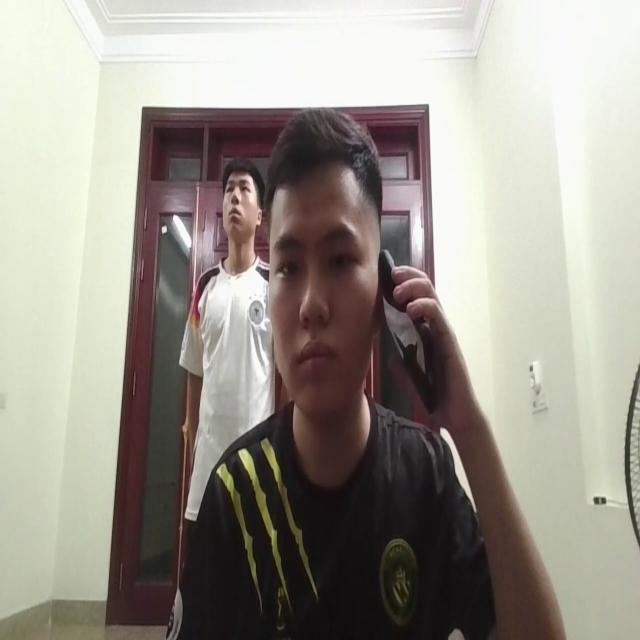extra_person: (182, 151, 274, 508)
phone: (370, 235, 454, 428)
student: (186, 113, 548, 640)
